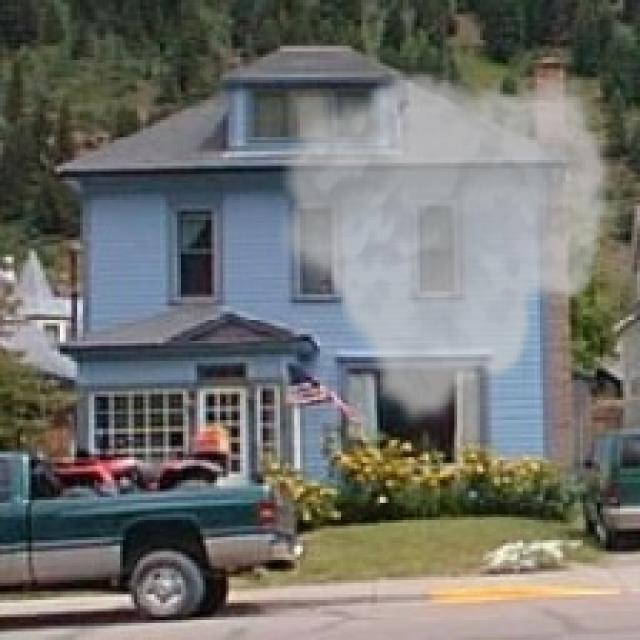smoke: (272, 66, 617, 428)
